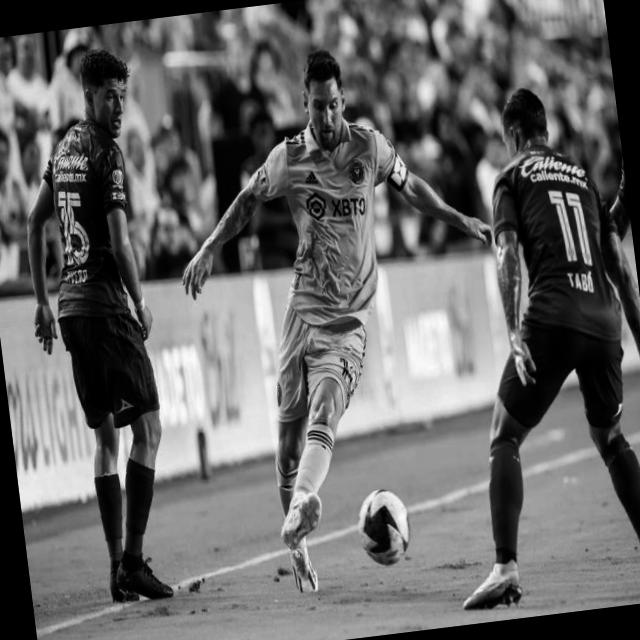football: (352, 483, 418, 572)
